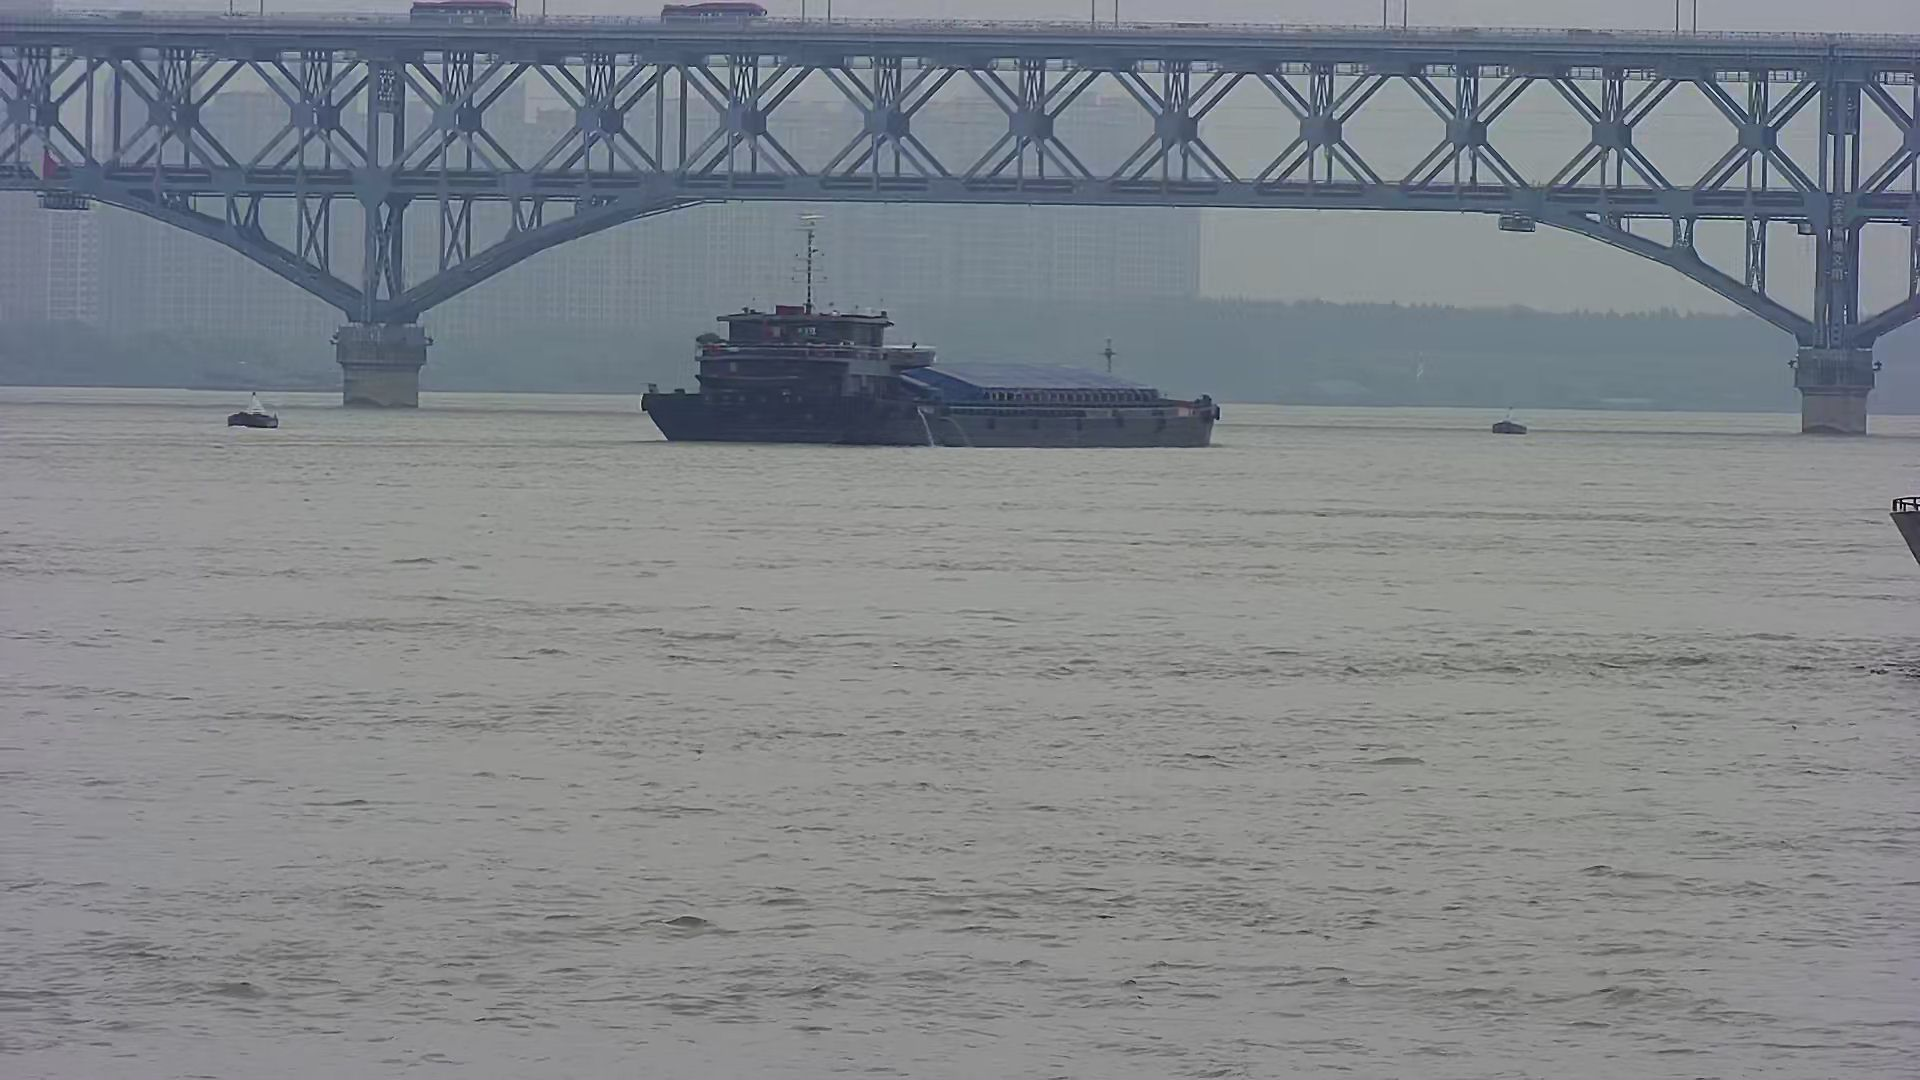boat: (202, 381, 291, 438), (1477, 389, 1538, 442)
bridge: (1, 4, 1913, 439)
ship: (636, 208, 1242, 458)
